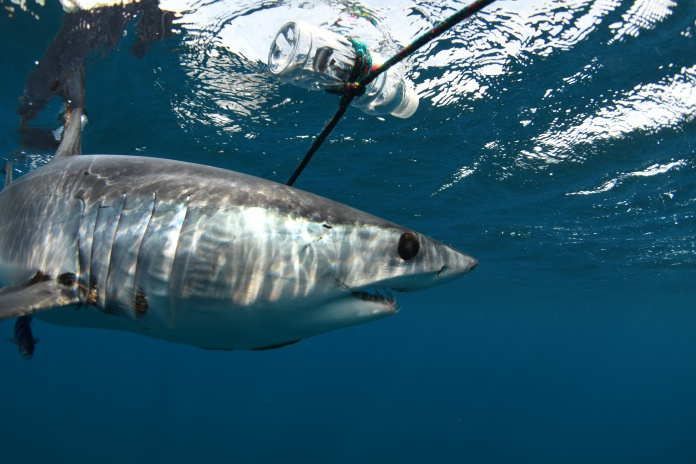Mako: (1, 94, 494, 363)
